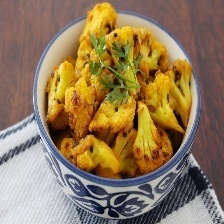sabzi: (43, 0, 192, 180)
